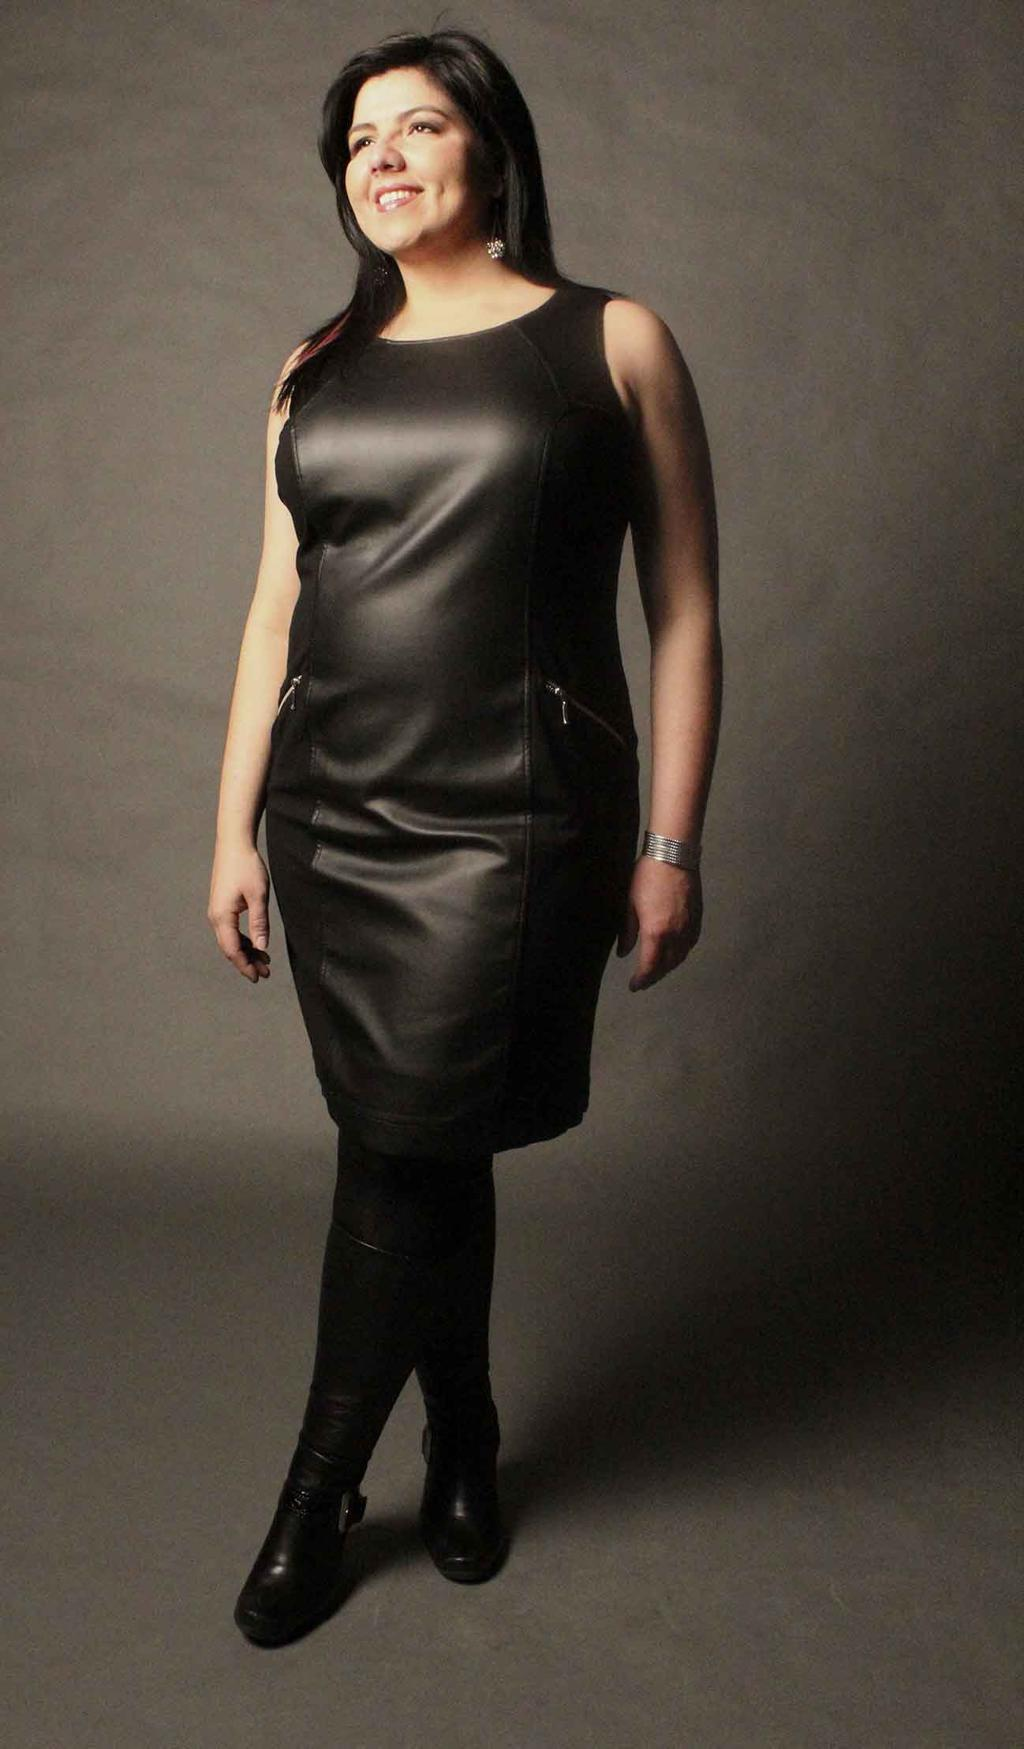face: (345, 72, 471, 249)
